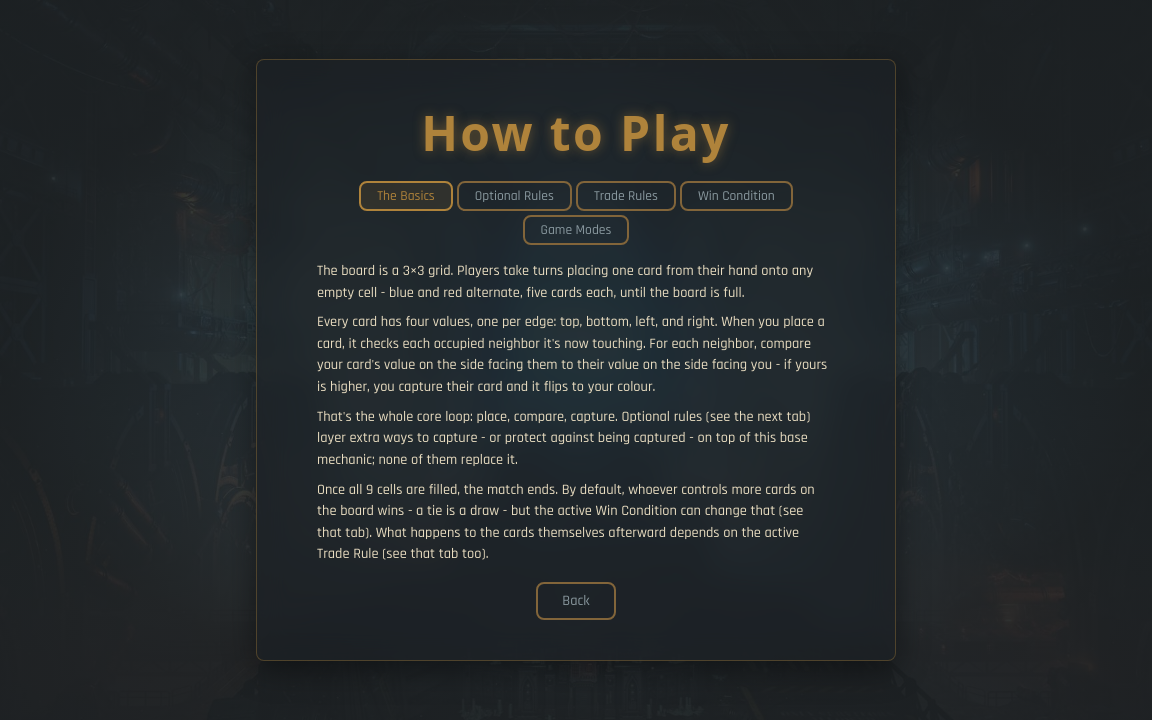
it: HowToPlayScreen tabs › switches to Optional Rules content when that tab is clicked
Click the tab "Optional Rules".
click(514, 196)  # box [457,181,572,211]
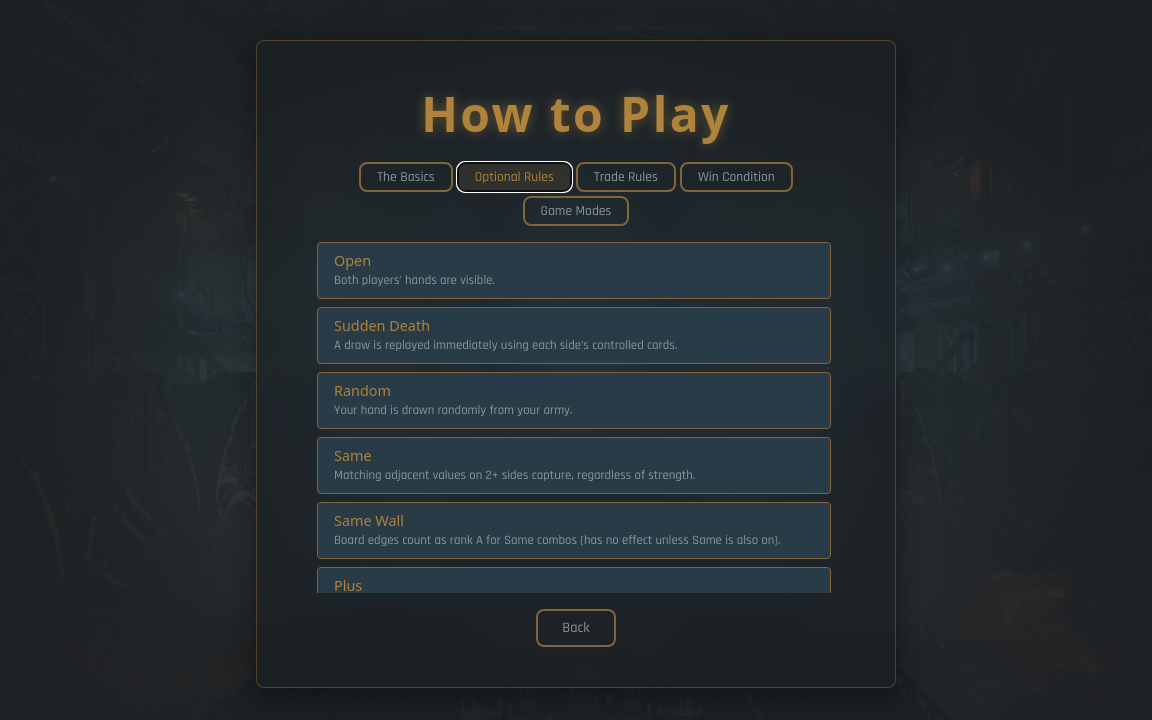
Check: the text "The board is a 3×3 grid" is gone
